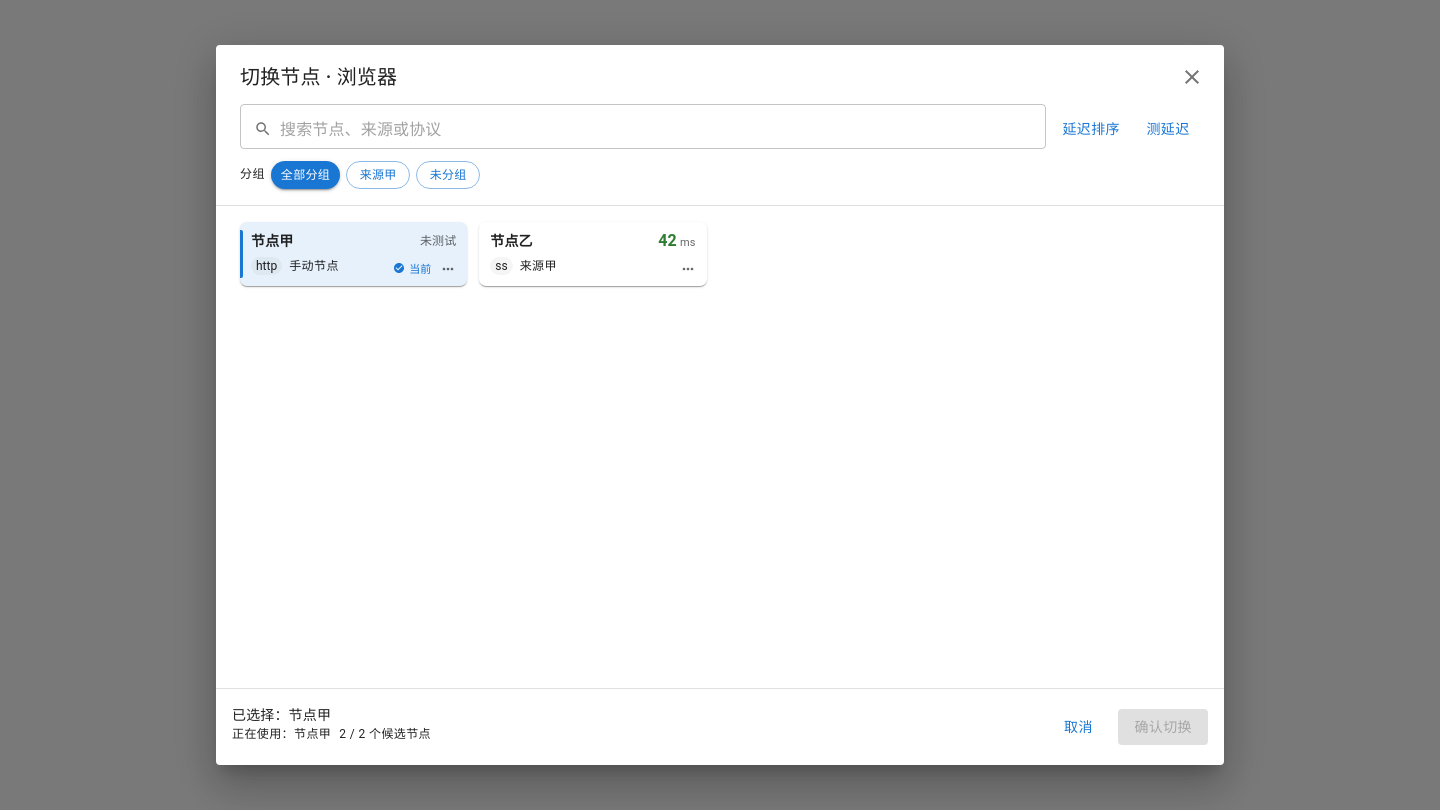
Test: leaves the popup open and shows backend validation failures
Click the radio button with aria-label "节点乙 · 来源甲" at (593, 254), box [479, 222, 707, 286]
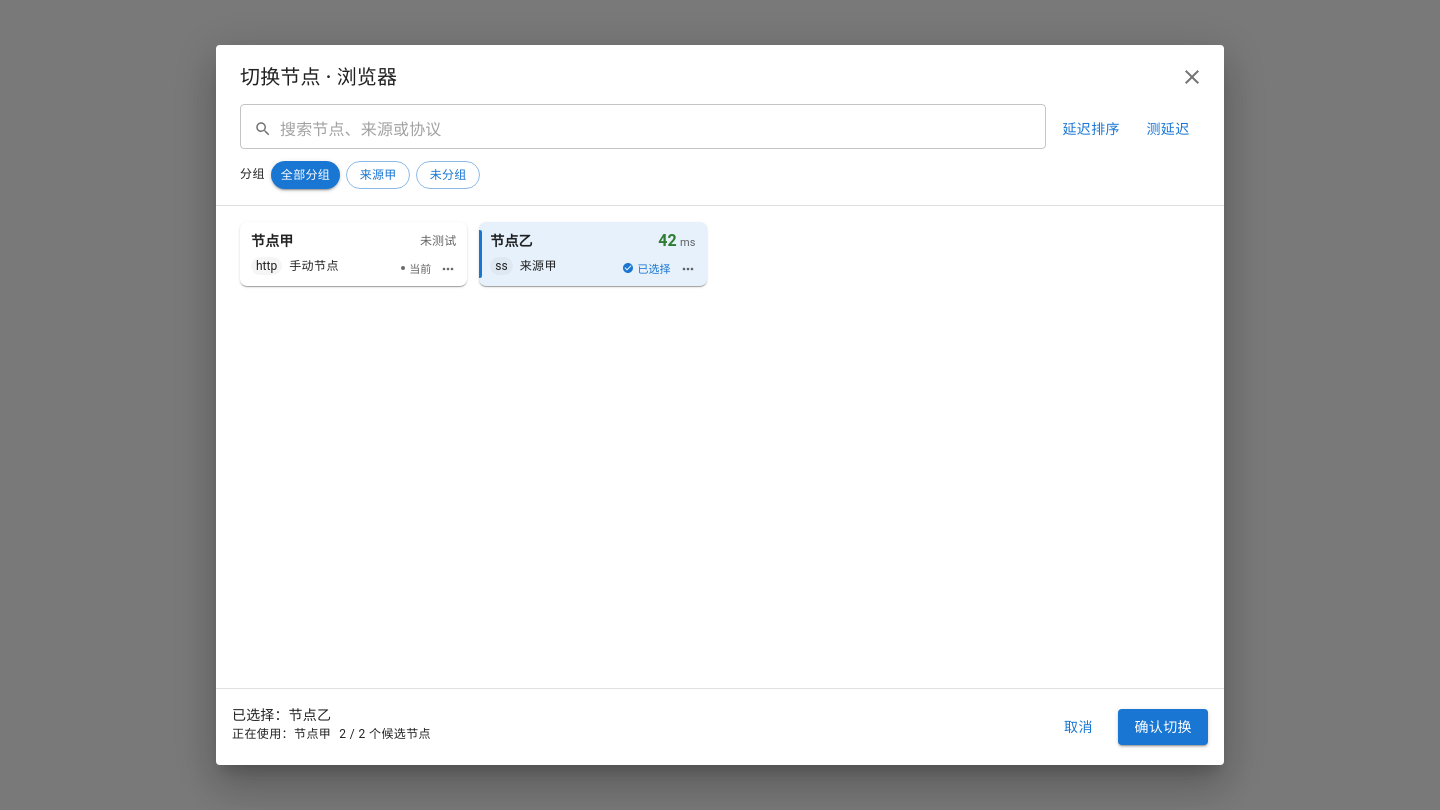
Click the button "确认切换" at (1163, 727), box [1118, 709, 1208, 745]
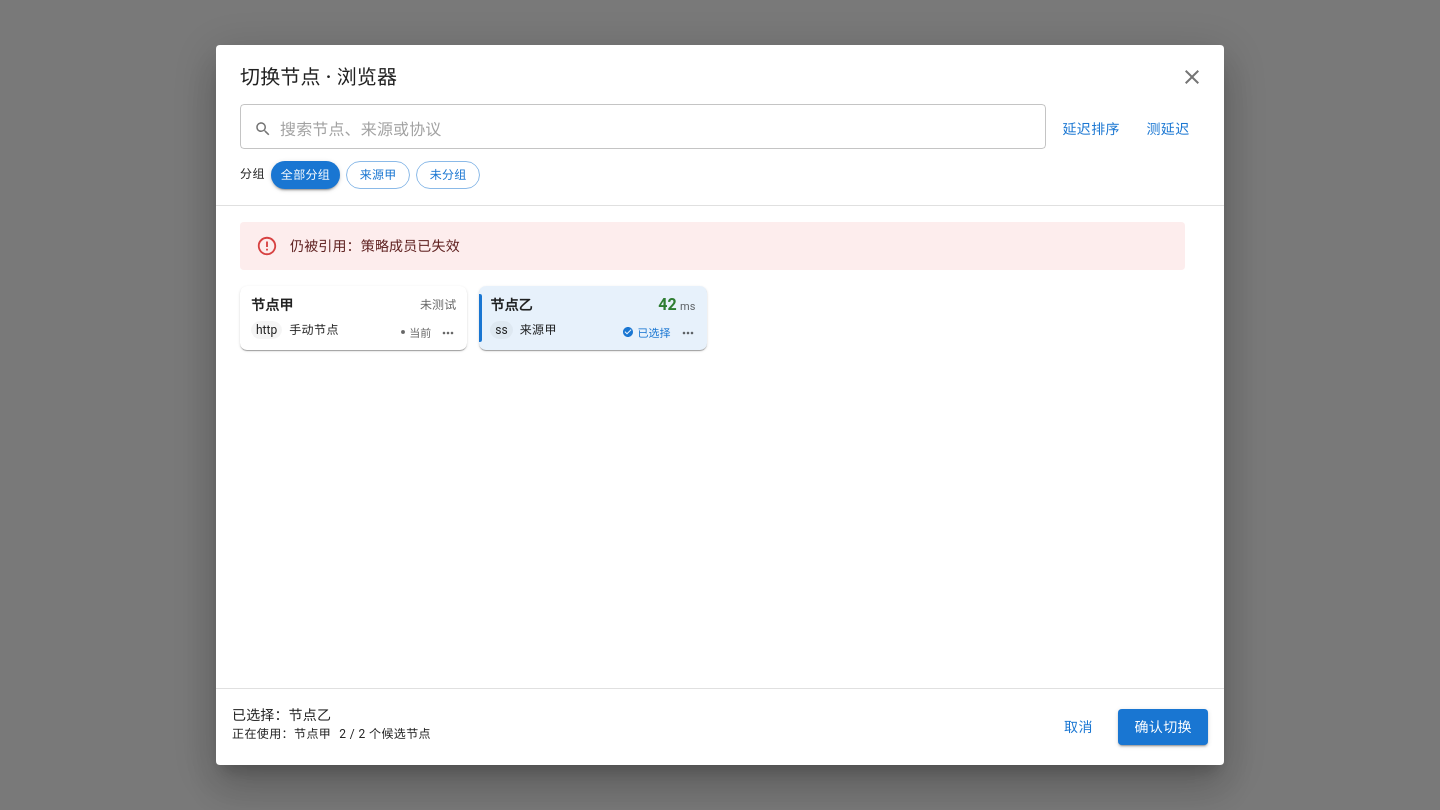
Check: the message shows "策略成员已失效", box [290, 238, 460, 254]
